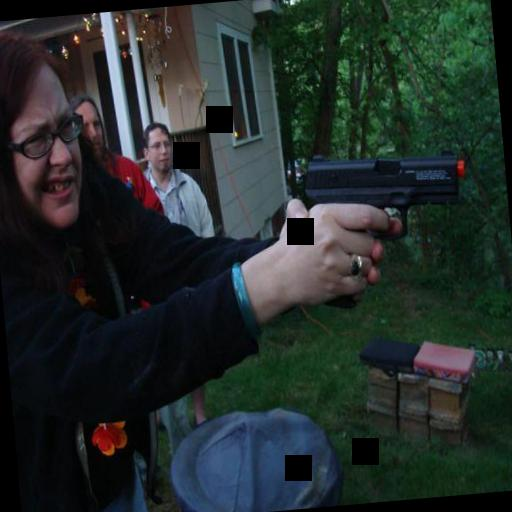Handgun: (278, 126, 470, 256)
